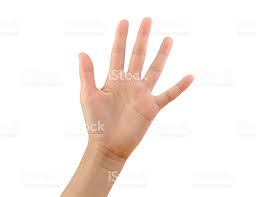hand: (70, 12, 200, 170)
